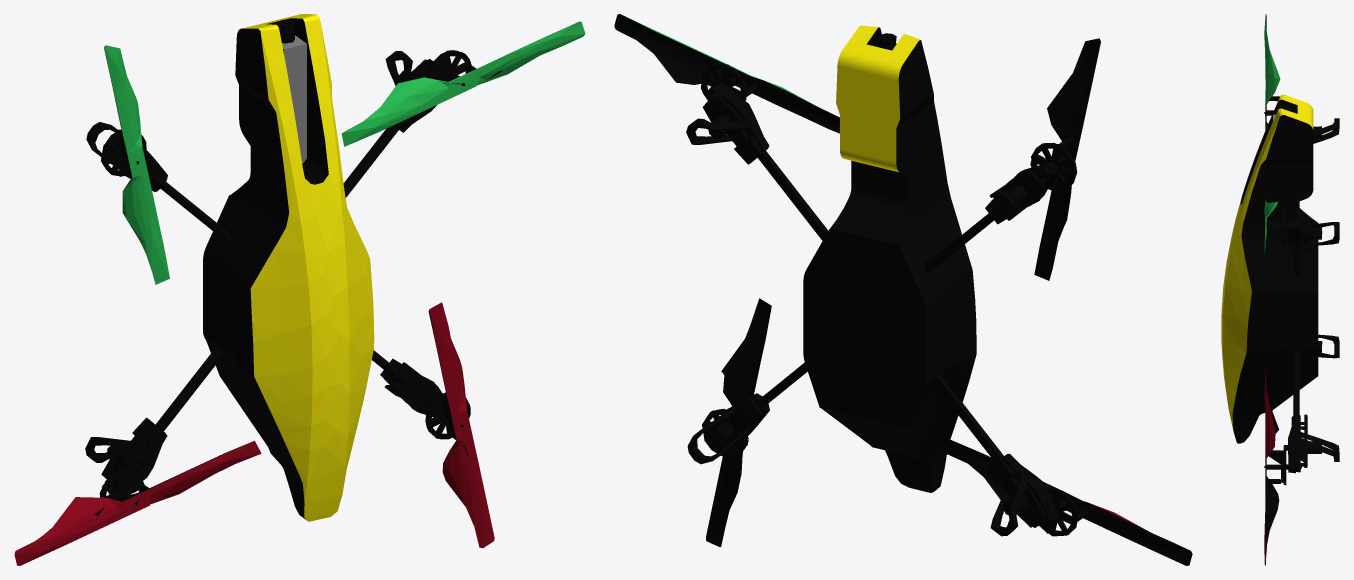
The model's file is ArDroneCAD.obj.
The picture shows the model from 3 angles, left to right: view 1: azimuth 30°, elevation 25°; view 2: azimuth 150°, elevation 25°; view 3: azimuth 270°, elevation 25°; orthographic projection. The views are drawn at different scales.
Visible parts, largest first — view 1: Object.1; view 2: Object.1; view 3: Object.1.
Part boxes in pixels (box(x1,y1,x2,y2)): Object.1: box(14, 14, 585, 565); Object.1: box(614, 14, 1192, 565); Object.1: box(1221, 14, 1339, 565).
Size of the model in its own units: 450 by 448 by 114.
